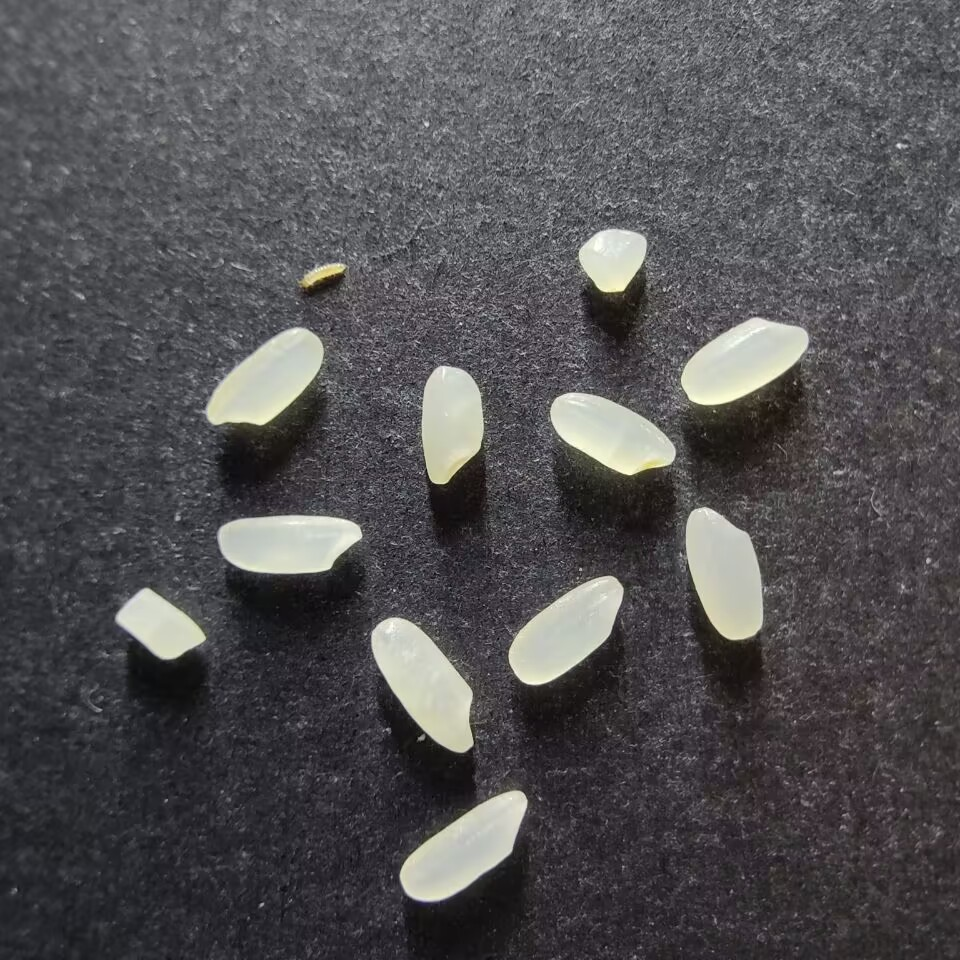broken: (114, 586, 206, 661), (577, 229, 647, 293)
others: (294, 260, 348, 292)
rice: (369, 616, 474, 754), (398, 790, 527, 902), (507, 574, 623, 685), (205, 327, 323, 426), (680, 316, 809, 405), (684, 506, 764, 640), (549, 392, 676, 475), (216, 514, 362, 574), (420, 365, 483, 485)
